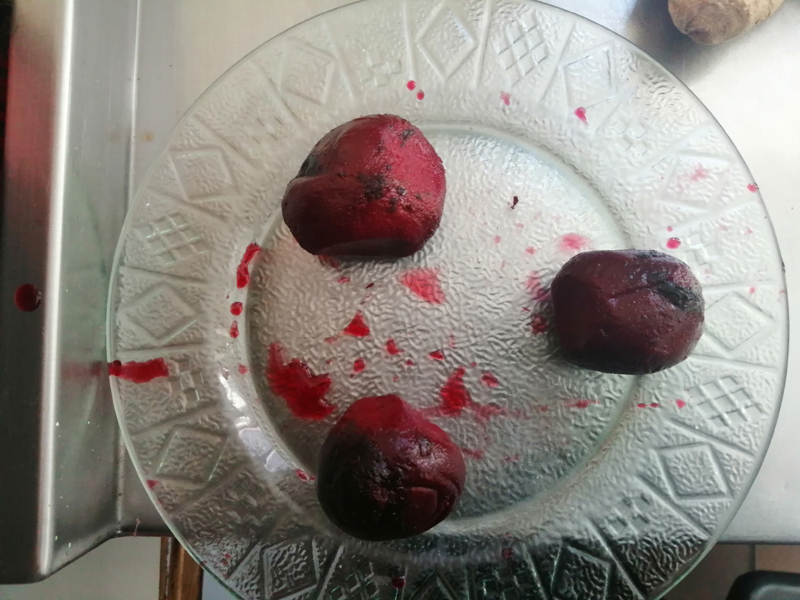beet: (276, 104, 459, 275), (303, 387, 472, 557), (551, 243, 707, 390)
